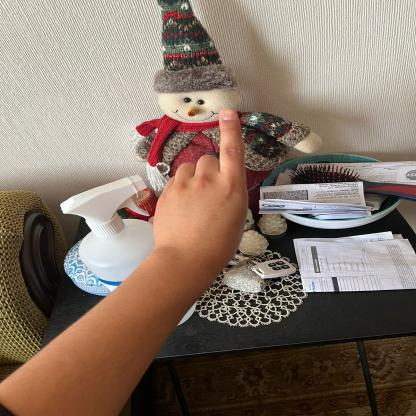T: (152, 107, 254, 273)
